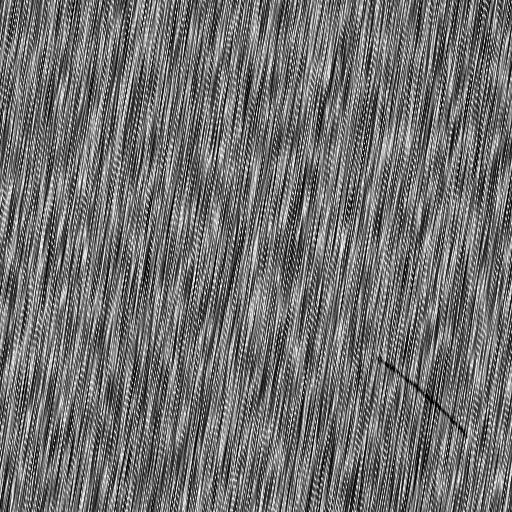DefectTypeC: (377, 356, 472, 437)
